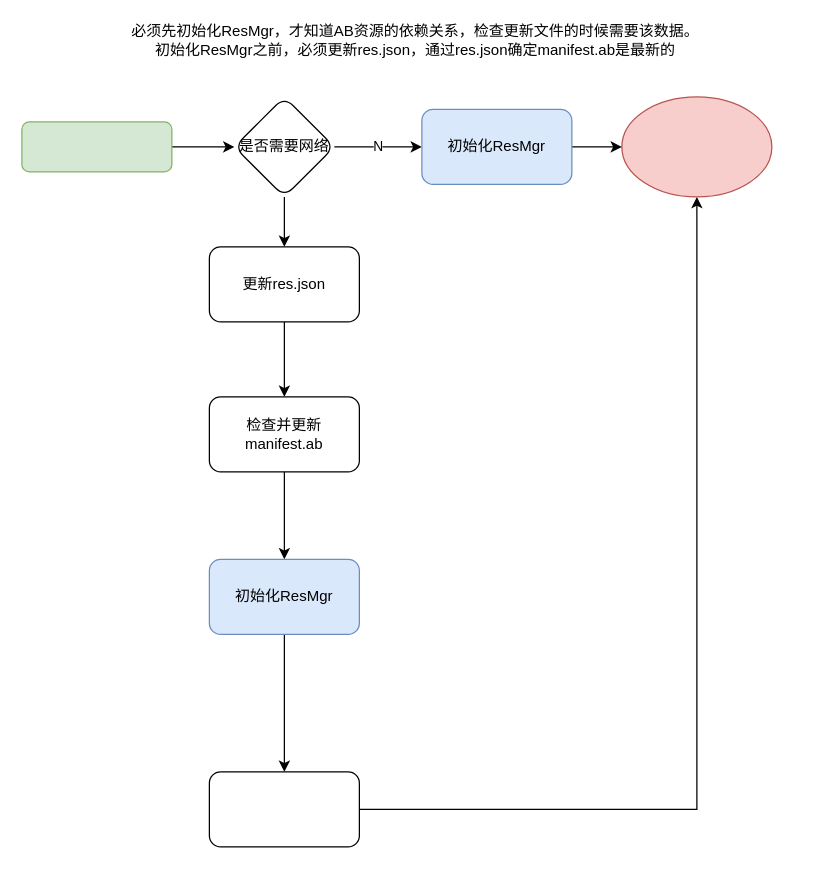
Image size: 831x869. Some labels were removed from this diagram. The centre of each missing label's shape, as x and y in pixels:
Start: (x=96, y=146)
发送完成事件: (x=696, y=146)
检查并更新启动资源: (x=283, y=809)
